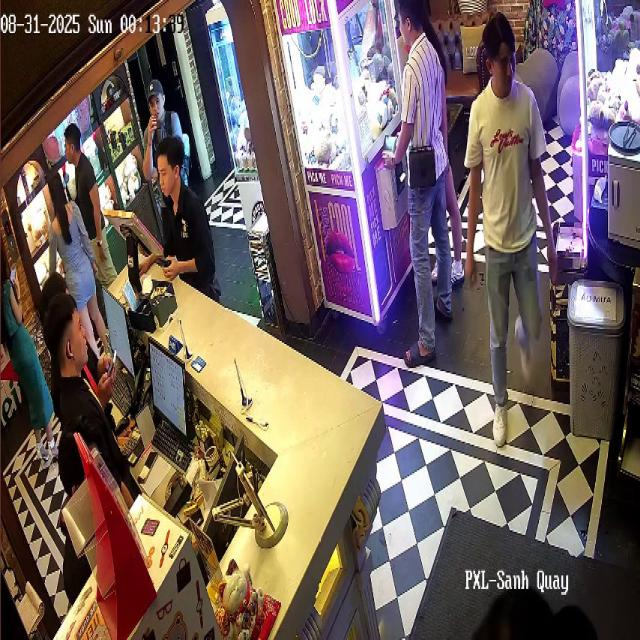khach: (462, 8, 555, 462), (394, 10, 454, 370), (0, 233, 50, 473), (46, 157, 98, 311), (65, 122, 116, 279), (140, 79, 177, 161)
nhan vien: (151, 137, 219, 318), (49, 293, 94, 480), (40, 252, 68, 340)
